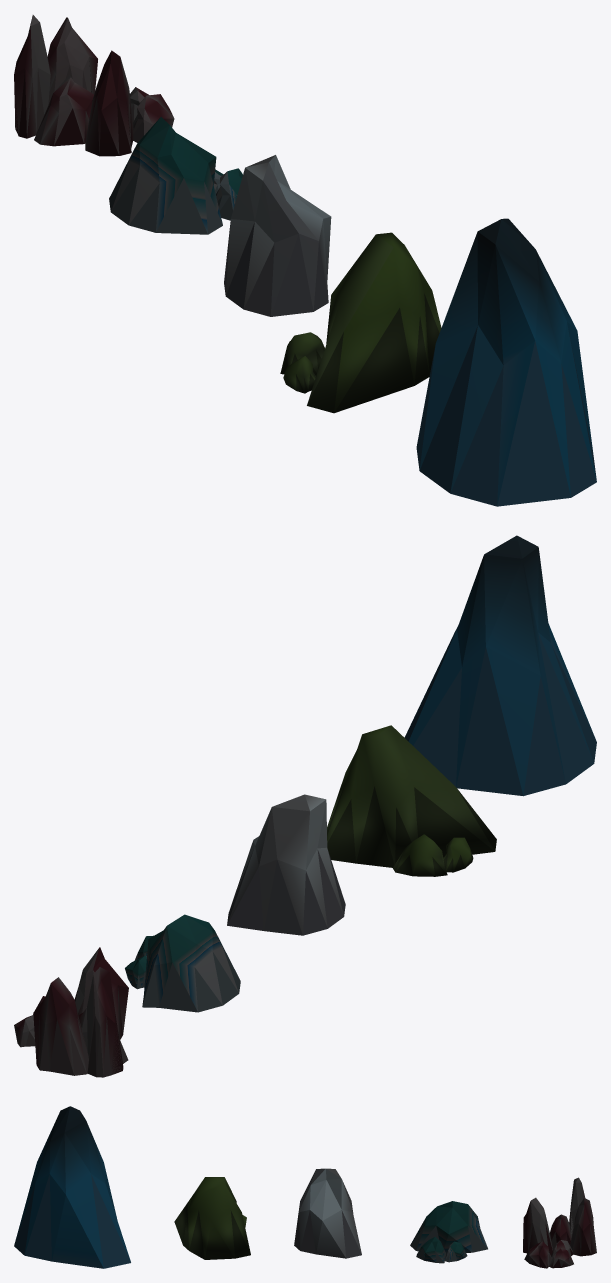
File: StoneVariants.glb
The picture shows the model from 3 angles, top to bottom: view 1: azimuth 30°, elevation 25°; view 2: azimuth 150°, elevation 25°; view 3: azimuth 270°, elevation 25°; orthographic projection. The views are drawn at different scales.
Parts seen in each view (by area): view 1: Ice, Uranium, Copper, Titanium, Hermatite; view 2: Ice, Uranium, Titanium, Copper, Hermatite; view 3: Ice, Uranium, Titanium, Copper, Hermatite.
Boxes of the visible parts, x1,y1,x2,y2 form: Ice: (416, 218, 596, 506); Uranium: (280, 232, 441, 413); Copper: (14, 15, 174, 156); Titanium: (224, 155, 331, 316); Hermatite: (109, 117, 242, 234); Ice: (404, 535, 596, 796); Uranium: (327, 725, 496, 876); Titanium: (227, 794, 345, 935); Copper: (14, 947, 128, 1077); Hermatite: (125, 914, 240, 1012); Ice: (14, 1106, 130, 1268); Uranium: (174, 1177, 250, 1259); Titanium: (294, 1168, 361, 1258); Copper: (523, 1177, 596, 1268); Hermatite: (410, 1201, 487, 1263).
Bounding box in the file's own units: 6.53 × 8.15 × 31.87.
1 material, 1 textured.
